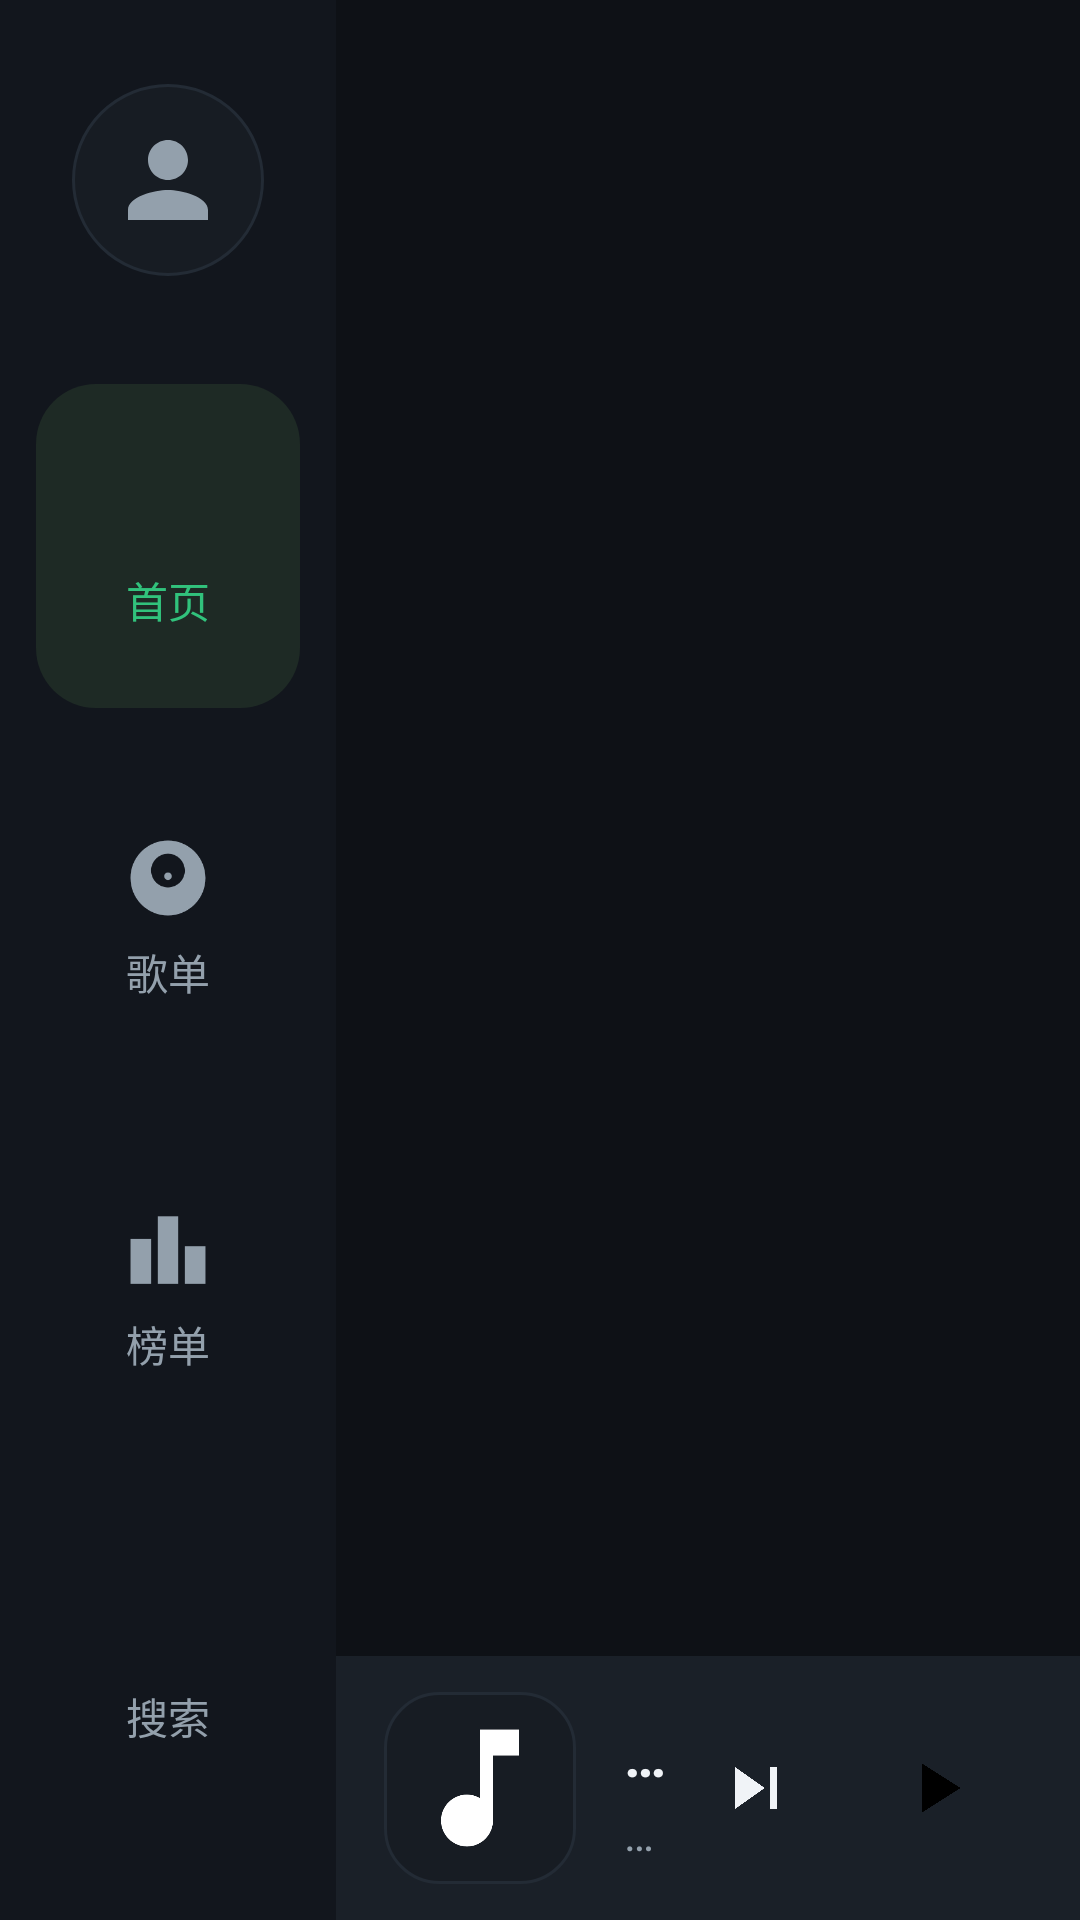

Screen size 1080 x 1920. Icon name, then its center in pixels as (x=x, y=y):
下一曲: (x=756, y=1788)
头像: (x=168, y=180)
封面: (x=480, y=1788)
播放/暂停: (x=941, y=1788)
